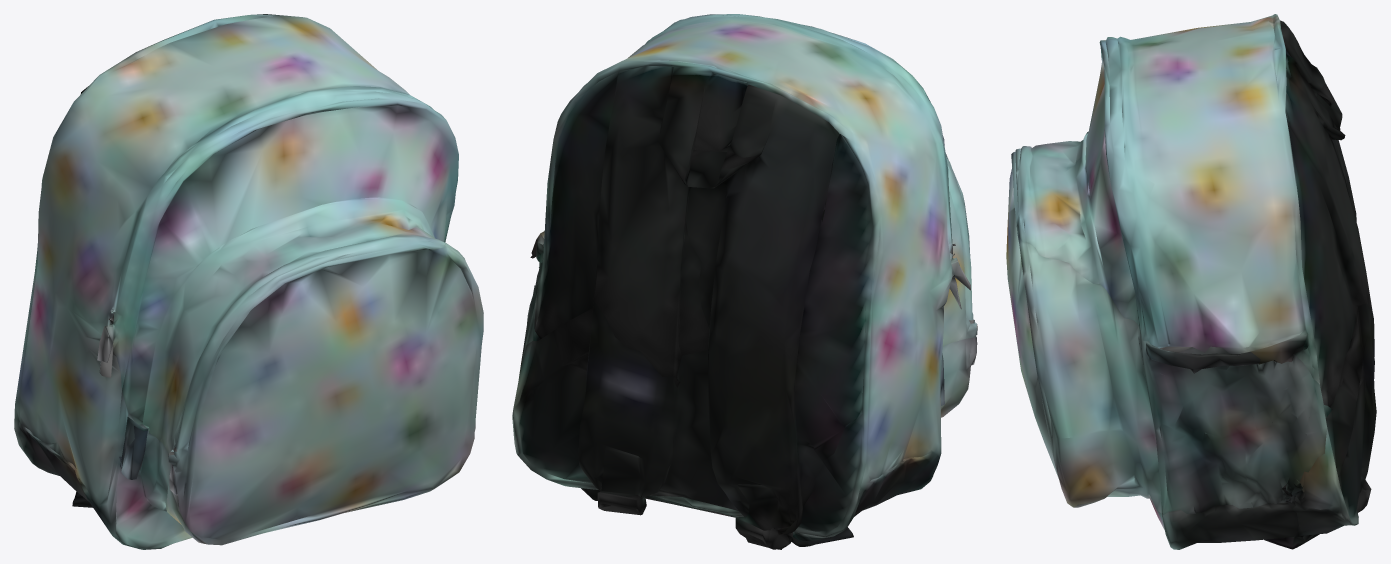
The model's file is Olive_Kids_Birdie_Pack_n_Snack-medium.glb.
The picture shows the model from 3 angles, left to right: view 1: azimuth 30°, elevation 25°; view 2: azimuth 150°, elevation 25°; view 3: azimuth 270°, elevation 25°; orthographic projection. The views are drawn at different scales.
Visible parts, largest first — view 1: Olive_Kids_Birdie_Pack_n_Snack; view 2: Olive_Kids_Birdie_Pack_n_Snack; view 3: Olive_Kids_Birdie_Pack_n_Snack.
Part boxes in pixels (bbox=[...]): Olive_Kids_Birdie_Pack_n_Snack: bbox=[14, 14, 483, 549]; Olive_Kids_Birdie_Pack_n_Snack: bbox=[512, 14, 977, 549]; Olive_Kids_Birdie_Pack_n_Snack: bbox=[1006, 14, 1376, 549].
Size of the model in its own units: 0.282 by 0.3206 by 0.2459.
1 material, 1 textured.
